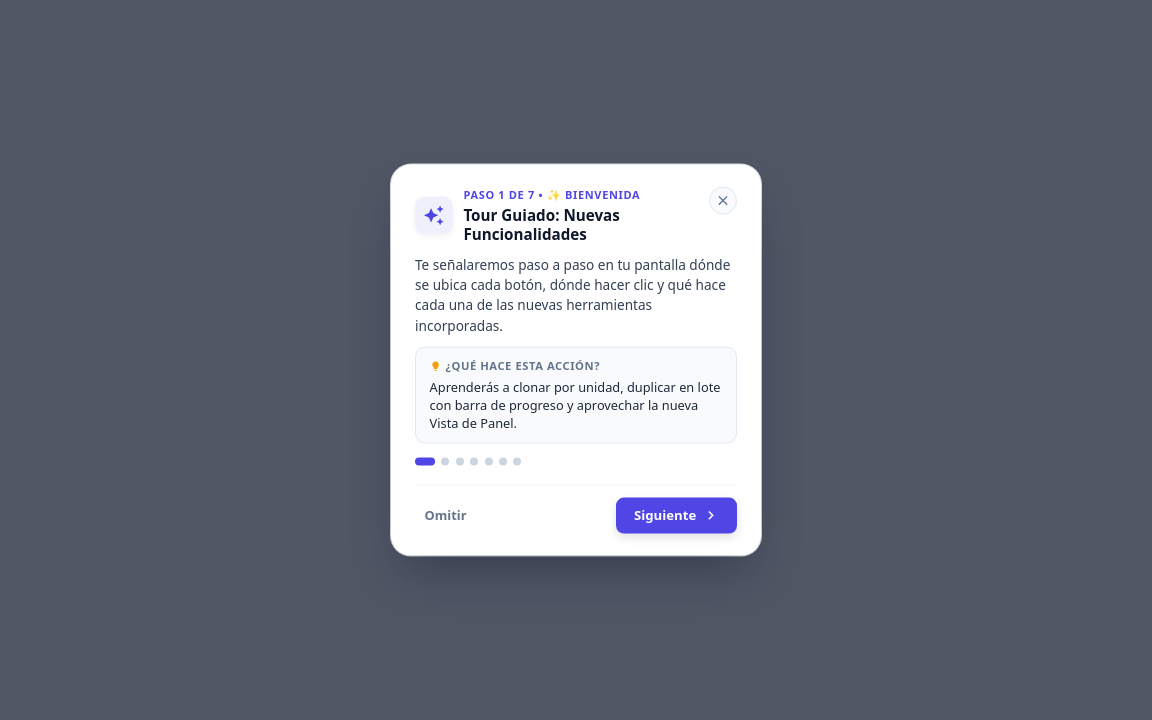
Test: EvaluacionesSpotlightTour › permite retroceder con el botón Anterior
Click the button "Siguiente": x=677, y=515 [616,497,737,533]
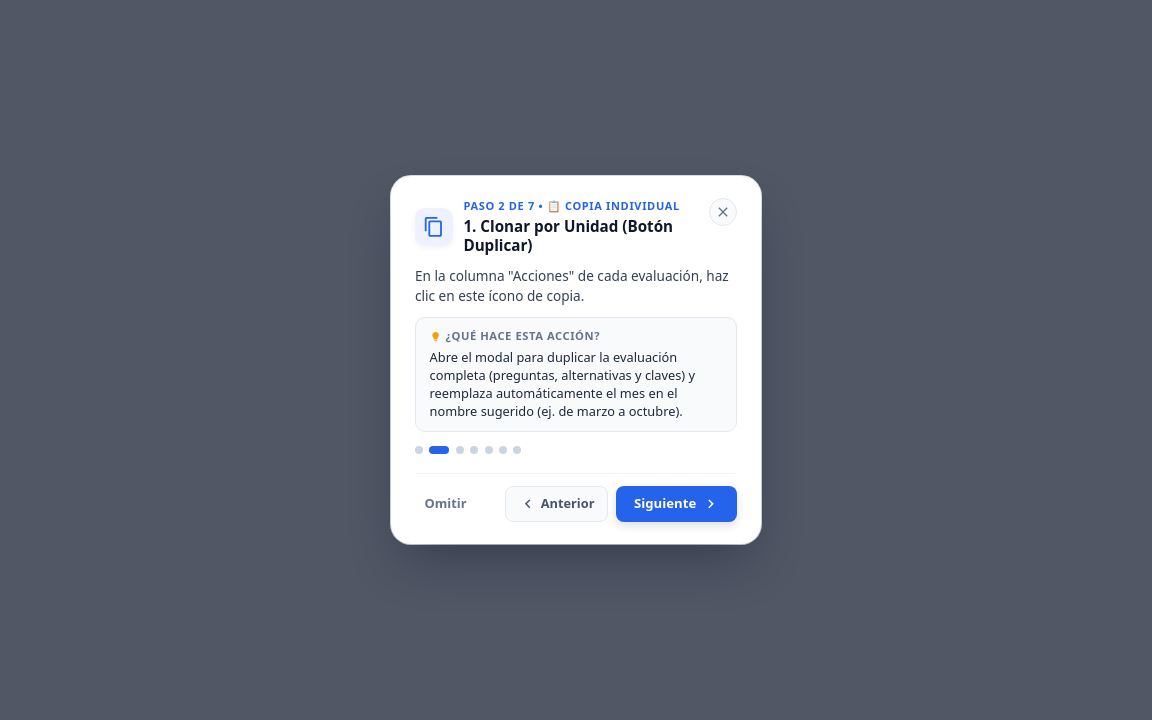
Now the heading "1. Clonar por Unidad (Botón Duplicar)" is shown, box [463,217,697,255]
Click the button "Anterior": x=557, y=504 [505,486,608,522]
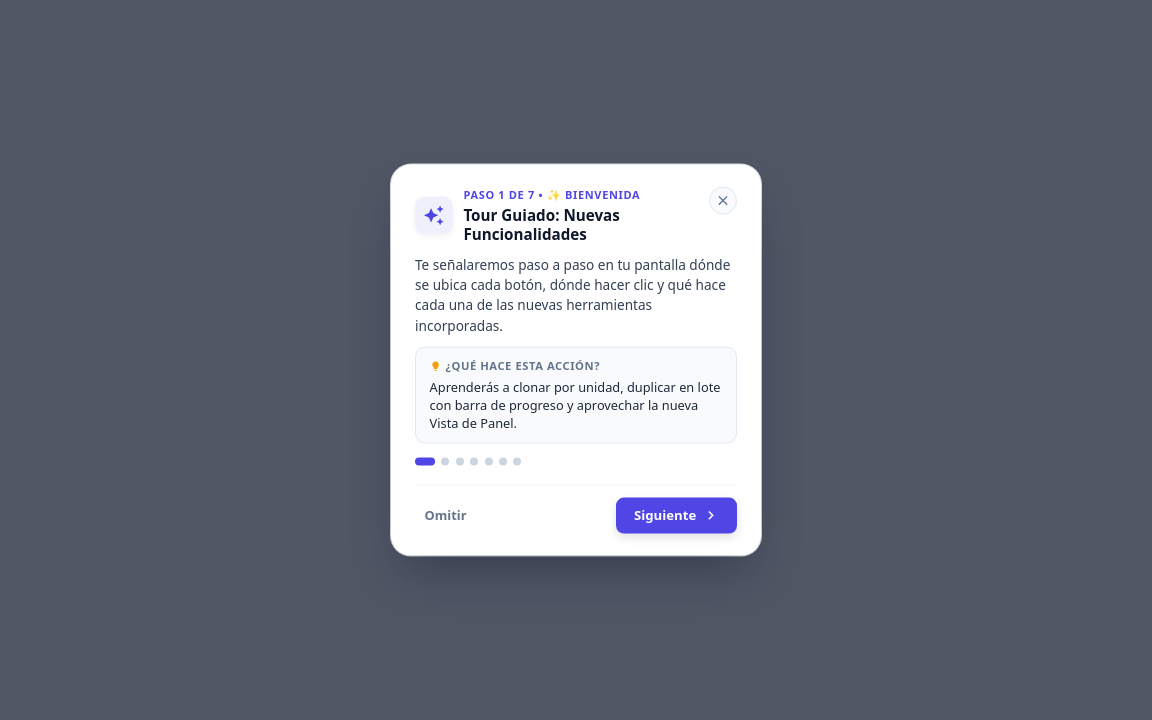
Now the heading "Tour Guiado: Nuevas Funcionalidades" is shown, box [463,205,620,244]
